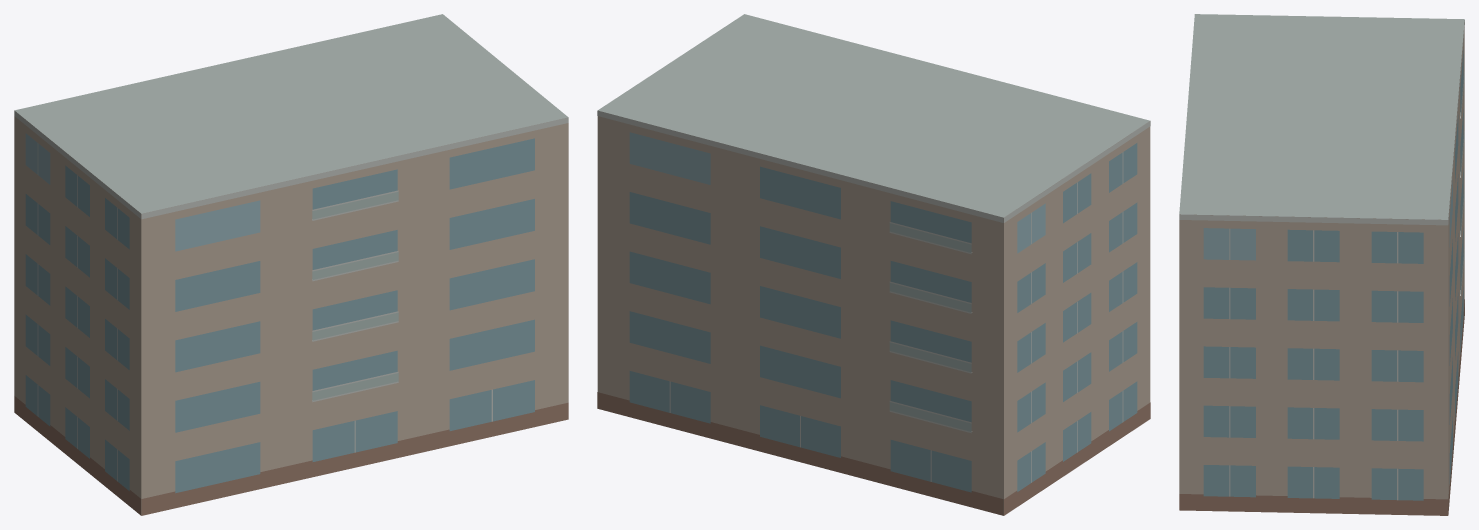
File: survey-upis-32653977.glb
3 renders of one model, left to right at view 1: azimuth 30°, elevation 25°; view 2: azimuth 150°, elevation 25°; view 3: azimuth 270°, elevation 25°, orthographic. The views are drawn at different scales.
Parts seen in each view (by area): view 1: survey-upis-32653977.tmp; view 2: survey-upis-32653977.tmp; view 3: survey-upis-32653977.tmp.
Boxes of the visible parts, <box> form: survey-upis-32653977.tmp: <box>14,14,568,515</box>; survey-upis-32653977.tmp: <box>597,14,1150,515</box>; survey-upis-32653977.tmp: <box>1179,14,1464,515</box>.
Size of the model in its own units: 19.71 by 13.2 by 11.55.
